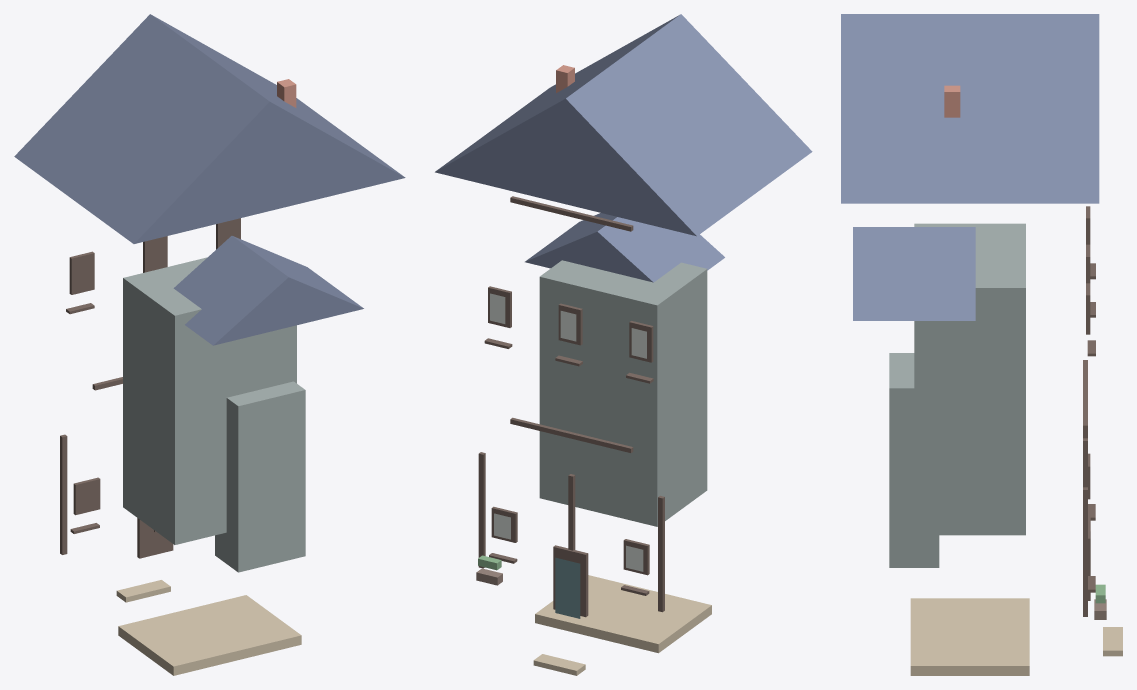
The model's file is moonhill-chartmaker-01.glb.
The picture shows the model from 3 angles, left to right: view 1: azimuth 30°, elevation 25°; view 2: azimuth 150°, elevation 25°; view 3: azimuth 270°, elevation 25°; orthographic projection. The views are drawn at different scales.
Parts seen in each view (by area): view 1: roof, body, wing, wing_roof, plinth, uwf_1_-0.73, up_-0.93, wf_-0.69, door_frame, uwf_1_0.00, step; view 2: roof, body, wing_roof, plinth, door, door_frame, beam_1, beam_2, up_0.93, up_-0.93, step, up_0.00; view 3: roof, body, wing_roof, plinth, wing, up_0.93, step, chimney.
Part boxes in pixels (box(x1,y1,x2,y2)): roof: box(14, 14, 405, 243); body: box(123, 257, 296, 544); wing: box(215, 381, 305, 572); wing_roof: box(173, 236, 363, 345); plinth: box(118, 595, 301, 675); uwf_1_-0.73: box(69, 251, 94, 294); up_-0.93: box(60, 434, 67, 554); wf_-0.69: box(73, 477, 100, 515); door_frame: box(137, 518, 173, 558); uwf_1_0.00: box(143, 236, 167, 272); step: box(116, 580, 170, 602); roof: box(435, 14, 812, 236); body: box(539, 260, 707, 526); wing_roof: box(525, 213, 724, 282); plinth: box(535, 575, 711, 653); door: box(555, 557, 580, 618); door_frame: box(553, 545, 588, 617); beam_1: box(510, 417, 633, 452); beam_2: box(510, 196, 633, 231); up_0.93: box(478, 452, 485, 568); up_-0.93: box(658, 495, 664, 612); step: box(533, 654, 585, 675); up_0.00: box(568, 474, 575, 550); roof: box(841, 14, 1099, 203); body: box(914, 223, 1025, 535); wing_roof: box(853, 227, 975, 320); plinth: box(910, 598, 1029, 675); wing: box(889, 353, 939, 567); up_0.93: box(1083, 487, 1087, 616); step: box(1103, 627, 1122, 656); chimney: box(944, 85, 960, 117).
Size of the model in its own units: 2.73 by 5.61 by 2.27.
